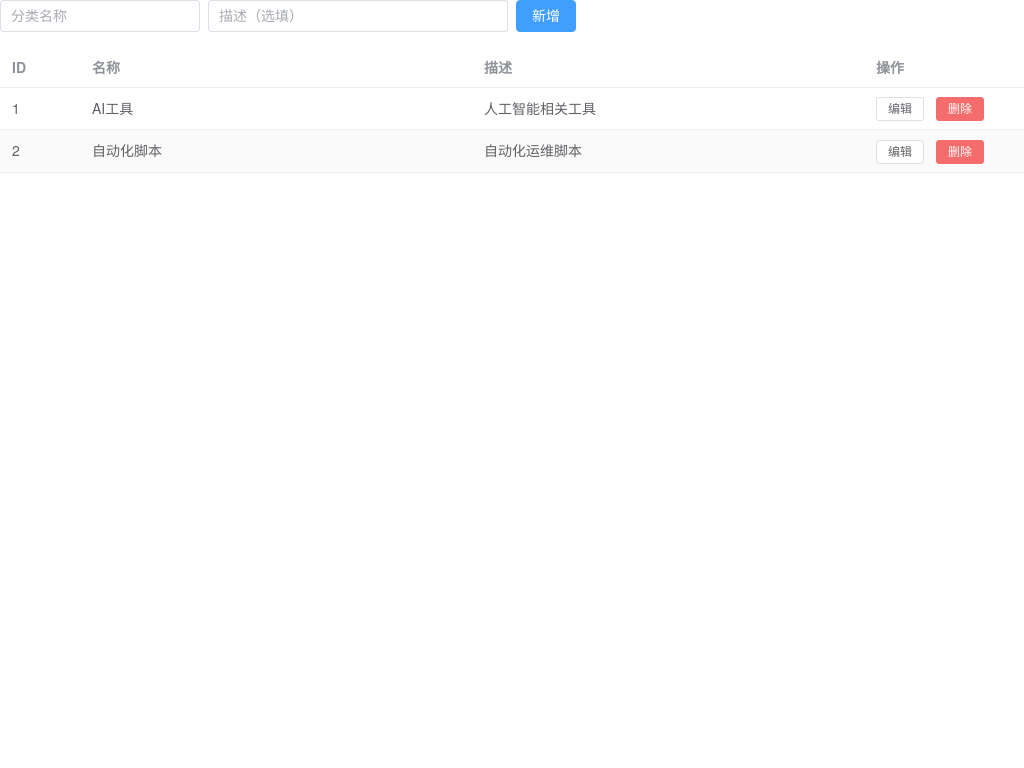
Test: CategoryManageTab › opens edit dialog when edit button clicked
This screenshot has width=1024, height=768.
Click the button "编辑" in the row of "AI工具". click: point(900, 109)
box: [876,97,924,121]
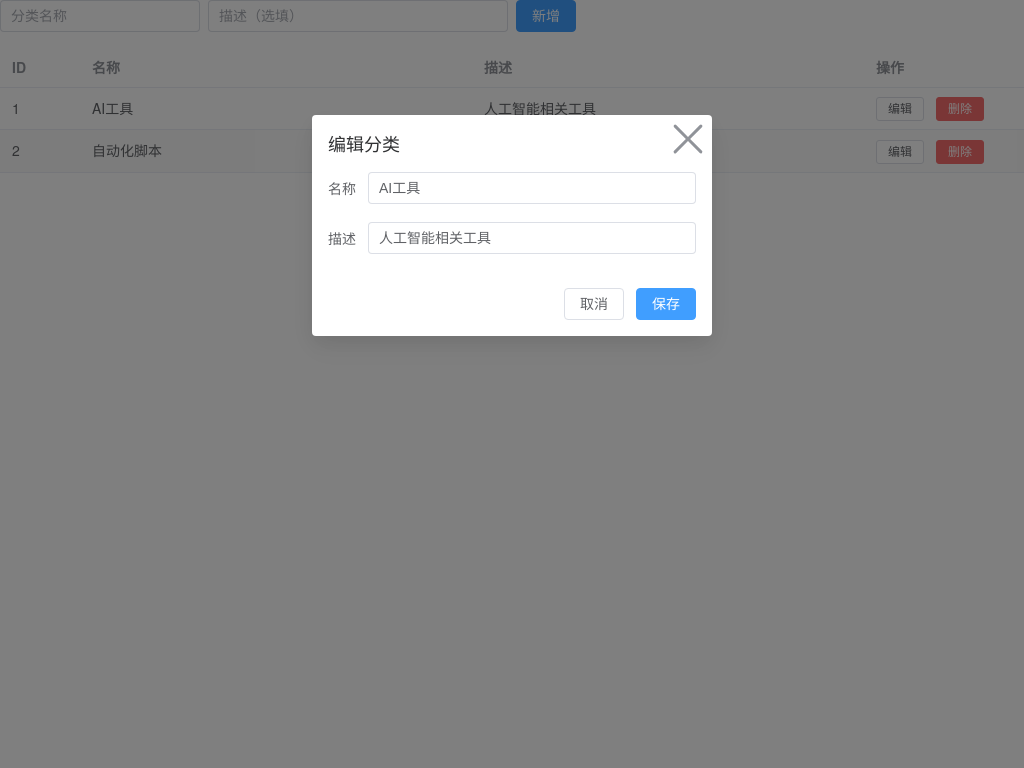
Now the element showing "编辑分类 名称 描述 取消 保存" is shown, box [312,115,712,336]
